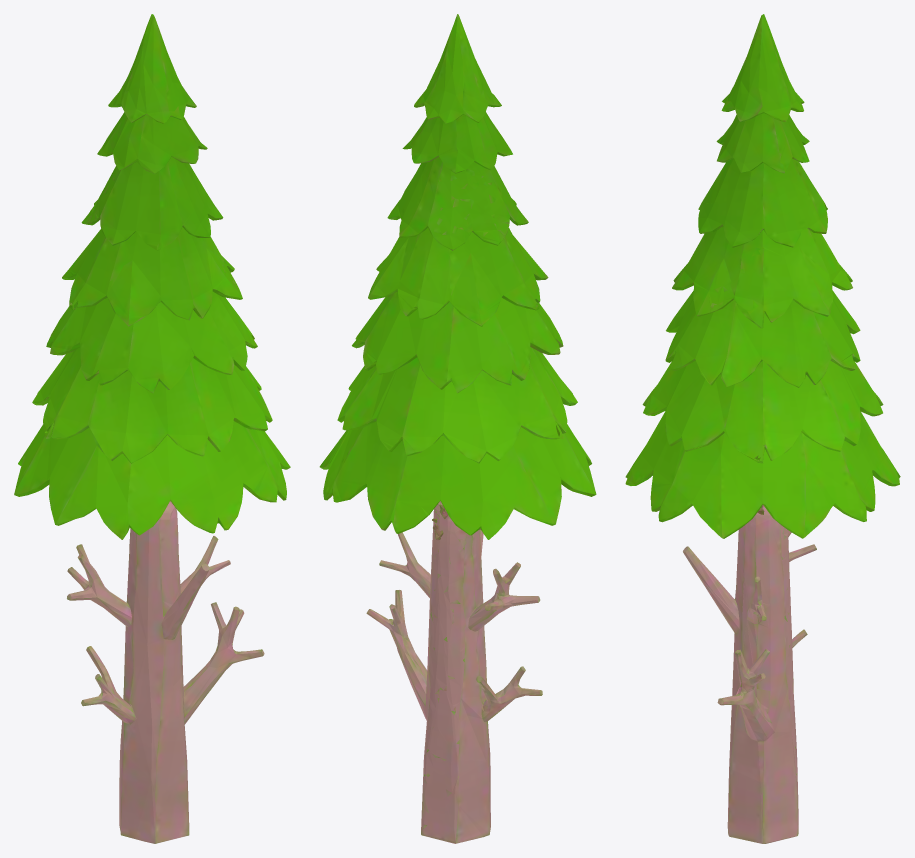
File: pine-tall.glb
3 views of the same model, side by side, from view 1: azimuth 30°, elevation 25°; view 2: azimuth 150°, elevation 25°; view 3: azimuth 270°, elevation 25° (orthographic).
Visible parts, largest first — view 1: geometry_0; view 2: geometry_0; view 3: geometry_0.
Boxes of the visible parts, left/top/right/bottom form: geometry_0: left=14, top=14, right=290, bottom=843; geometry_0: left=319, top=14, right=596, bottom=843; geometry_0: left=625, top=14, right=900, bottom=843.
Size of the model in its own units: 0.3038 by 1 by 0.3073.
Materials: 1 (1 with a texture image).
